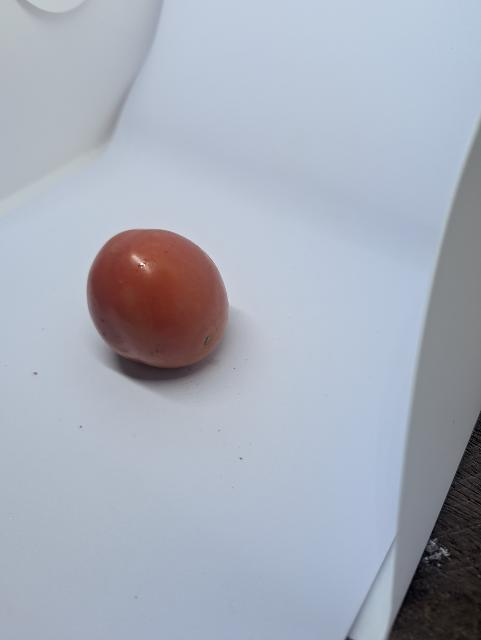red: (56, 211, 281, 395)
